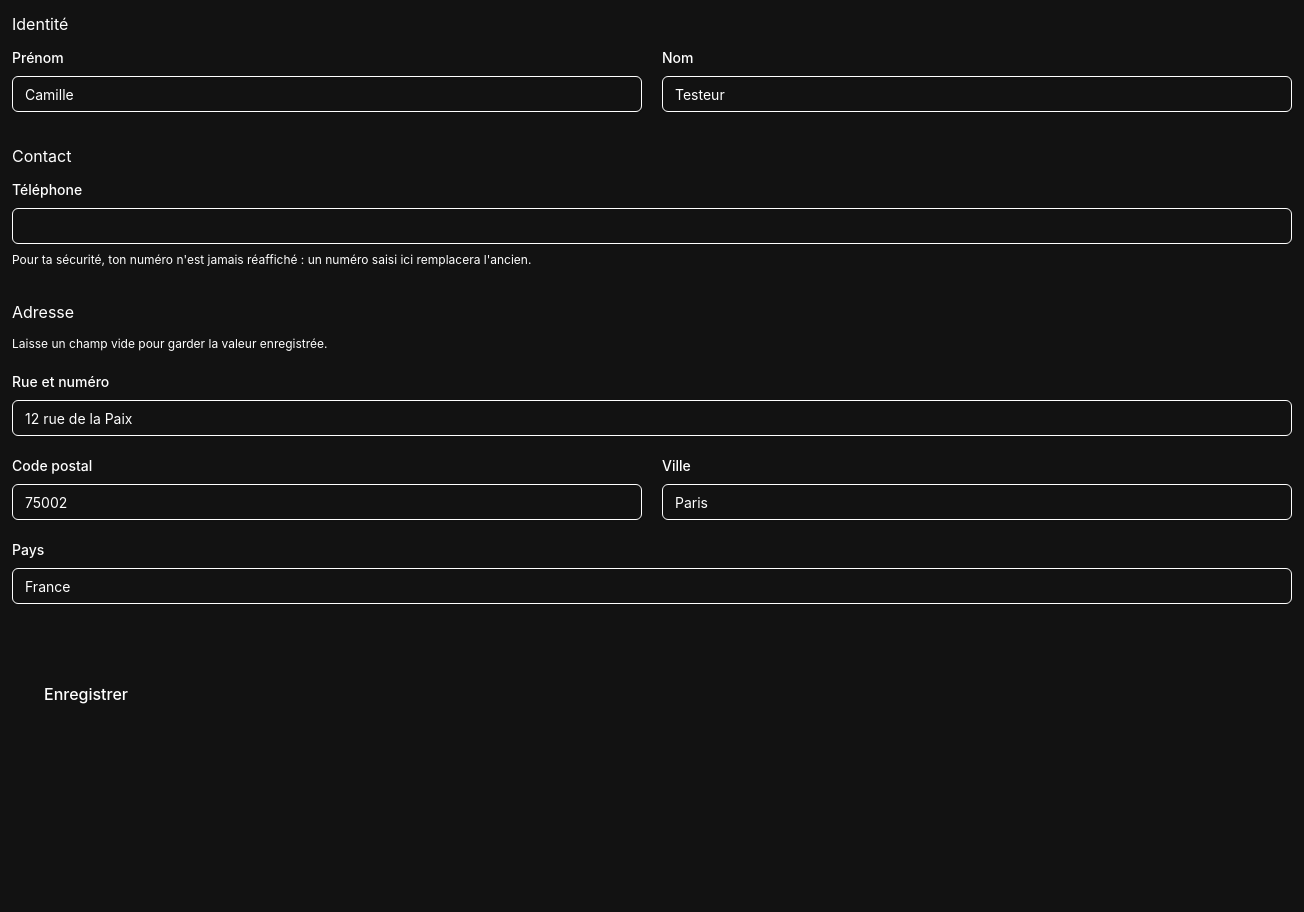
ProfileForm › announces the confirmation and empties the phone after a save
In the field labelled "Téléphone": (652, 226) top-left (12, 208), bottom-right (1292, 244), type "+33 6 12 34 56 78"
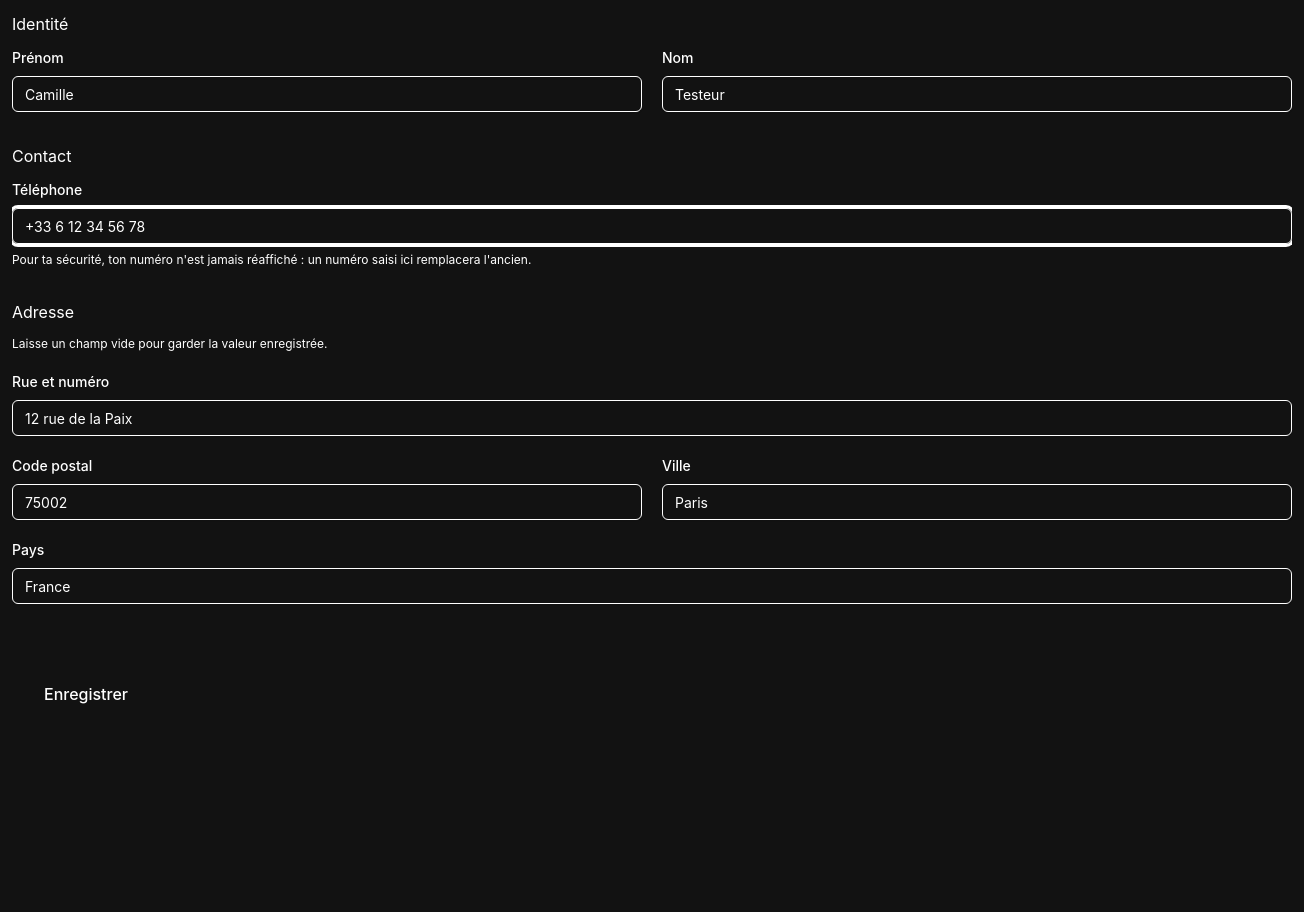
Click the button "Enregistrer": (86, 694) top-left (12, 672), bottom-right (160, 716)
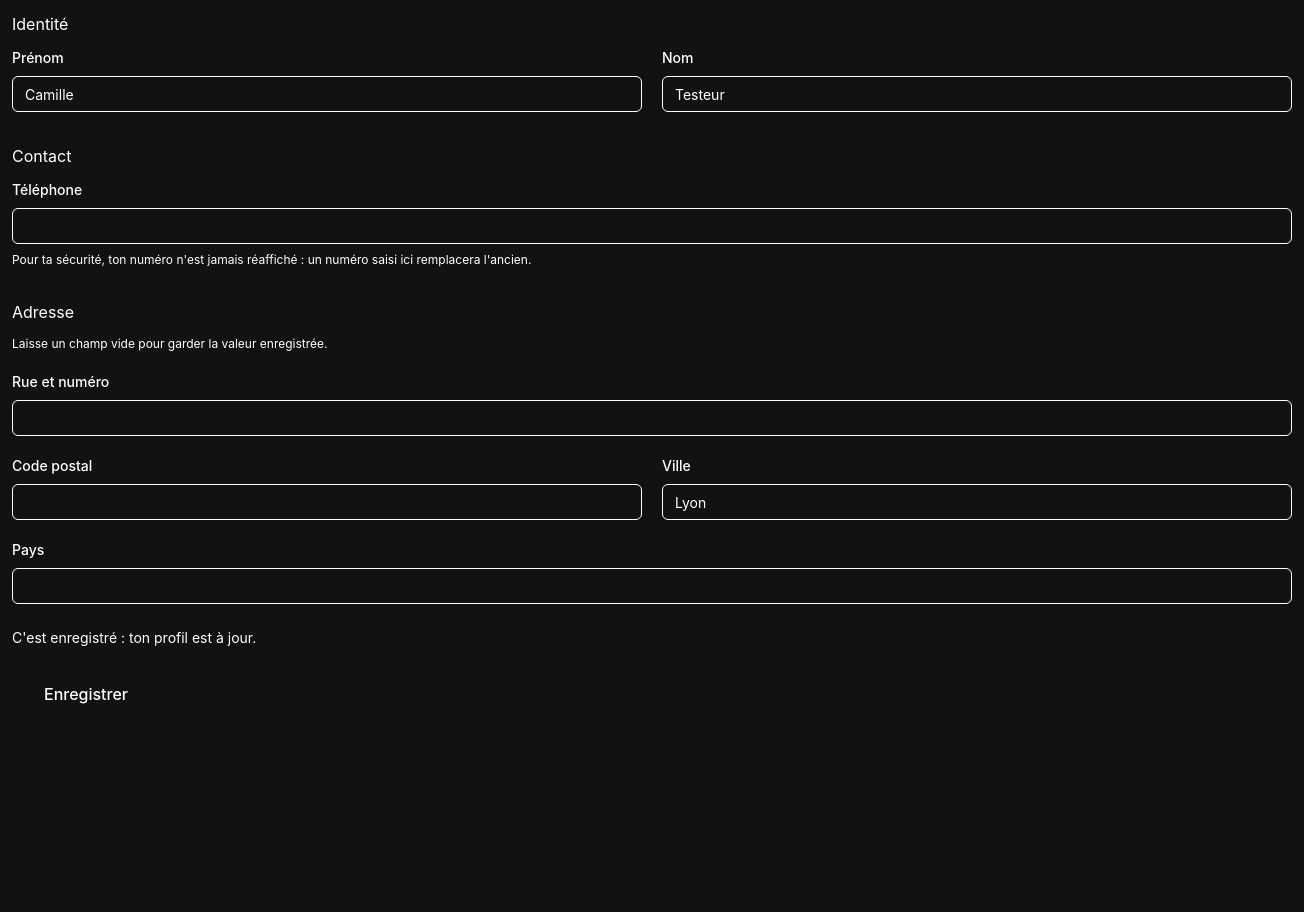
Result: the message shows "ton profil est à jour" at top-left (12, 629), bottom-right (256, 646)
Result: the field labelled "Téléphone" is empty at top-left (12, 208), bottom-right (1292, 244)
Result: the field labelled "Ville" holds "Lyon" at top-left (662, 484), bottom-right (1292, 520)
